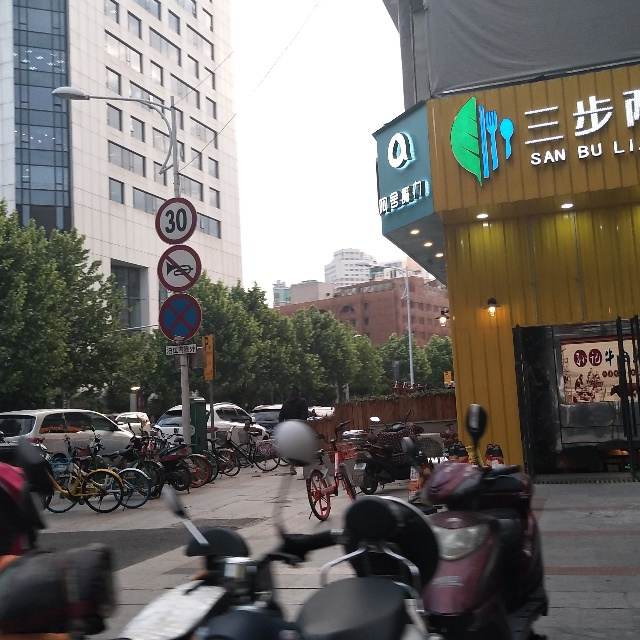nohonk: (162, 246, 198, 286)
stop: (156, 291, 201, 336)
